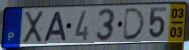3: (95, 8, 117, 43)
4: (74, 10, 90, 42)
5: (148, 7, 169, 40)
A: (42, 11, 68, 43)
D: (122, 7, 147, 42)
X: (22, 10, 45, 45)
